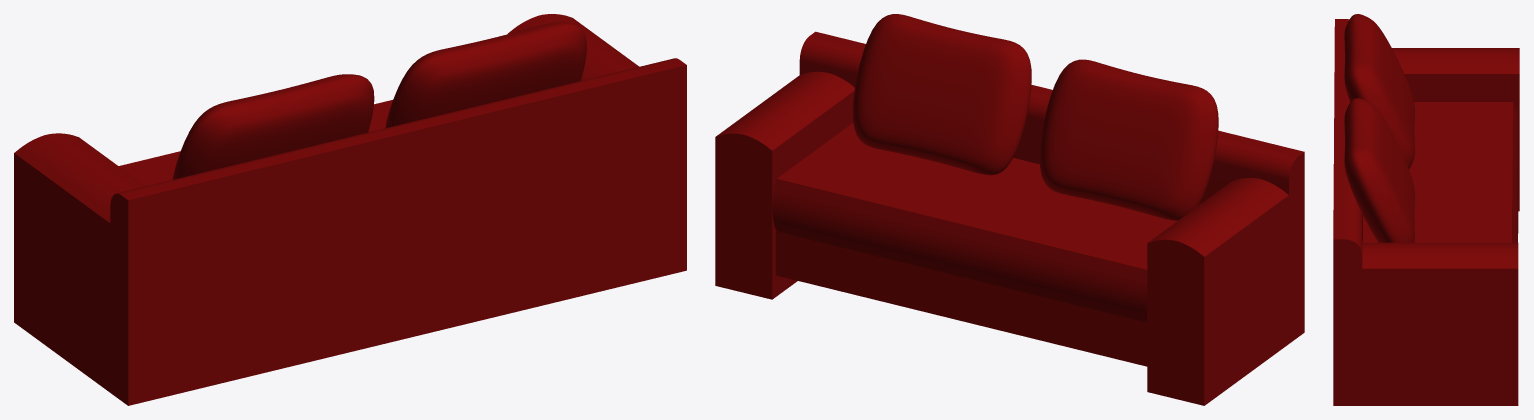
File: Canape1_10.fbx
3 renders of one model, left to right at view 1: azimuth 30°, elevation 25°; view 2: azimuth 150°, elevation 25°; view 3: azimuth 270°, elevation 25°, orthographic. The views are drawn at different scales.
Parts seen in each view (by area): view 1: pCube1068, pCube2517, pCube2516, pCube2518; view 2: pCube1068, pCube2518, pCube2517, pCube2516, pCube2515; view 3: pCube1068, pCube2518, pCube2517, pCube2516.
Part boxes in pixels (box(x1,y1,x2,y2)): pCube1068: box(14, 14, 686, 405); pCube2517: box(385, 22, 586, 128); pCube2516: box(172, 74, 374, 179); pCube2518: box(119, 100, 392, 186); pCube1068: box(715, 31, 1304, 405); pCube2518: box(772, 123, 1200, 322); pCube2517: box(852, 14, 1031, 175); pCube2516: box(1039, 59, 1218, 220); pCube2515: box(775, 231, 1147, 366); pCube1068: box(1333, 19, 1519, 405); pCube2518: box(1362, 102, 1518, 242); pCube2517: box(1344, 98, 1414, 242); pCube2516: box(1344, 14, 1414, 168).
Bounding box in the file's own units: 166 × 74.66 × 59.34.
